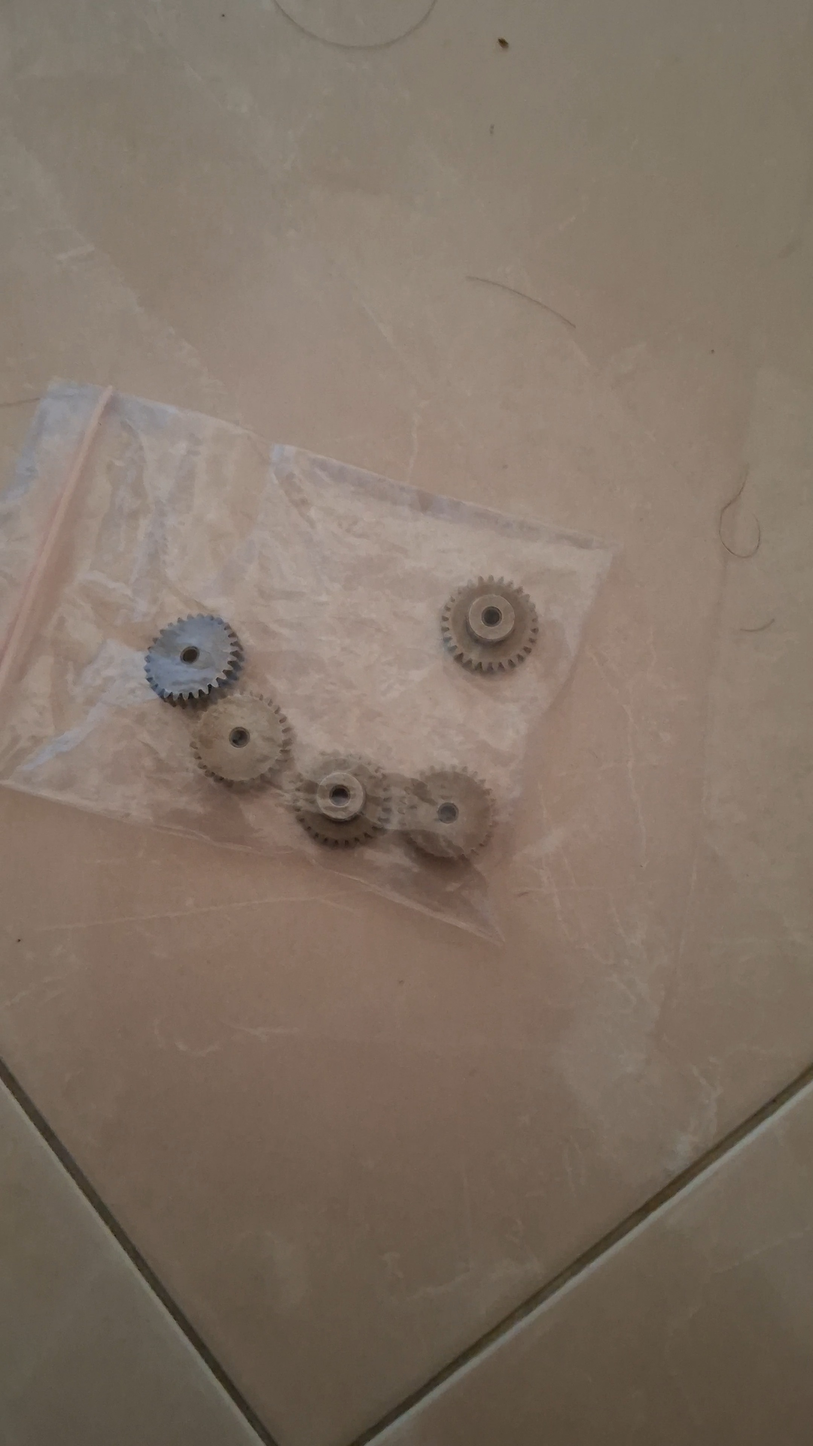spur gear: (191, 692, 292, 789), (441, 577, 538, 672), (292, 755, 391, 847), (145, 614, 242, 705), (401, 769, 495, 860)
